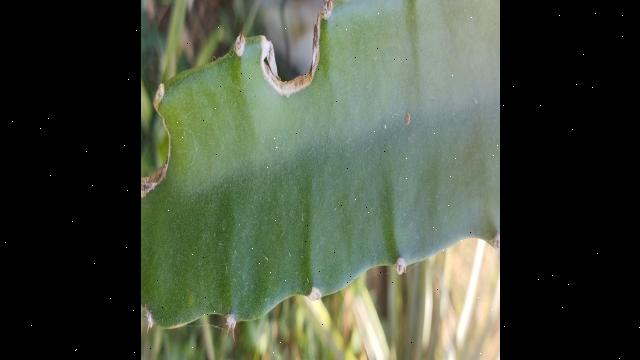stemcanker: (402, 106, 415, 127)
